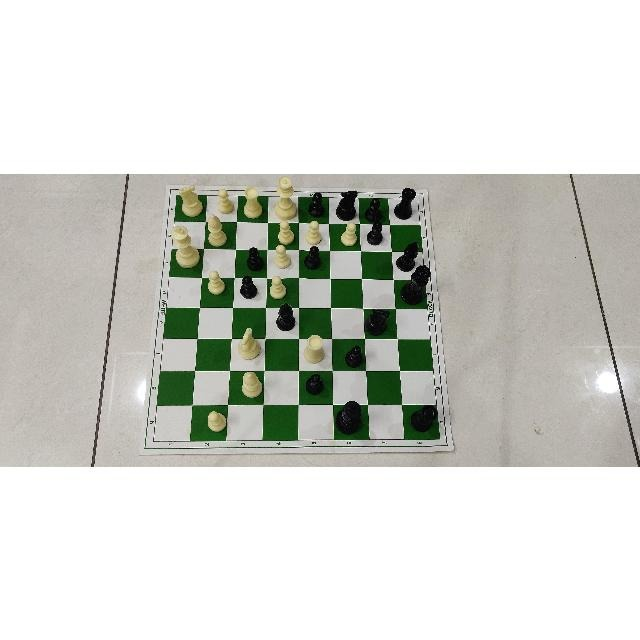black-bishop: (395, 238, 421, 271), (273, 301, 296, 331)
black-king: (336, 399, 362, 434)
black-knight: (334, 189, 360, 221), (365, 307, 389, 335)
black-pawn: (302, 372, 326, 396), (342, 343, 364, 368), (364, 196, 385, 221), (304, 244, 322, 271), (366, 219, 385, 244), (246, 246, 264, 272), (307, 191, 325, 217), (239, 273, 256, 299)
black-queen: (399, 263, 430, 304)
black-rook: (410, 401, 436, 432), (393, 186, 416, 220)
white-bishop: (205, 213, 227, 247), (241, 371, 263, 399)
white-king: (170, 224, 201, 269)
white-knight: (178, 184, 204, 217), (238, 325, 261, 360)
white-pawn: (206, 269, 225, 295), (272, 244, 291, 270), (269, 274, 287, 300), (216, 188, 234, 214), (206, 410, 227, 432), (304, 219, 322, 244), (340, 221, 357, 246), (278, 220, 294, 244)
white-queen: (274, 174, 298, 220)
white-rook: (301, 333, 330, 367), (302, 332, 329, 366), (240, 184, 266, 219), (242, 185, 264, 218)
